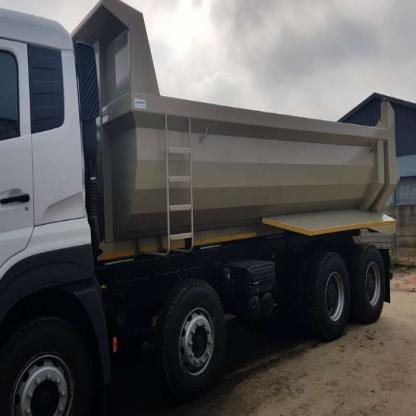dump_truck: (2, 2, 400, 416)
